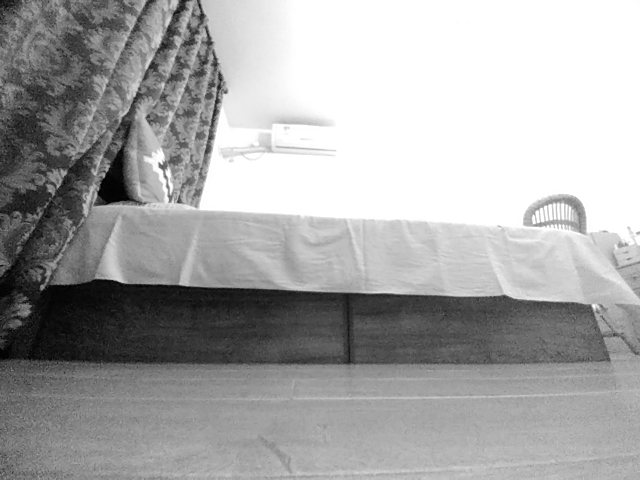curtain: (1, 1, 94, 362)
